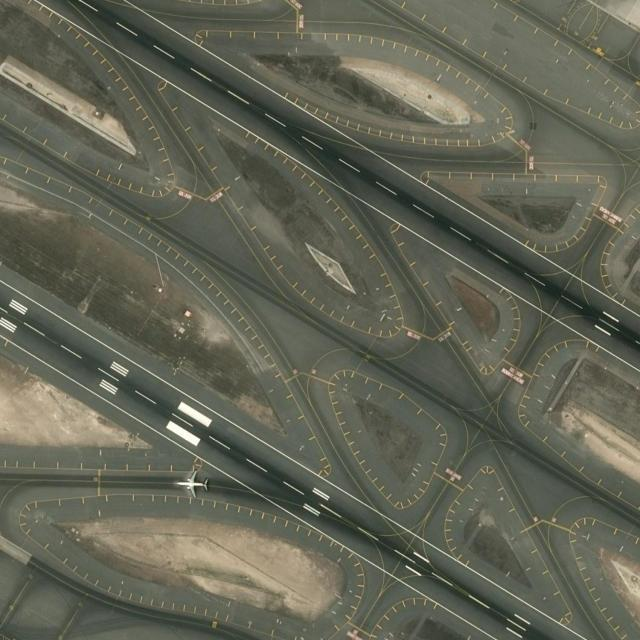Aircraft: (174, 467, 209, 499)
